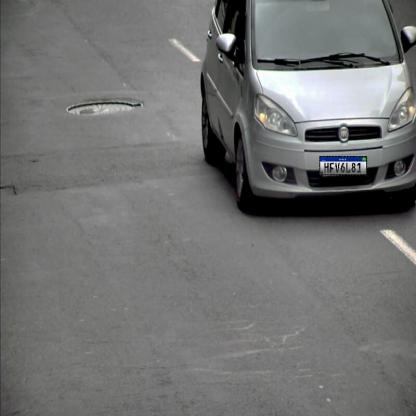PlacaM: (319, 156, 367, 175)
